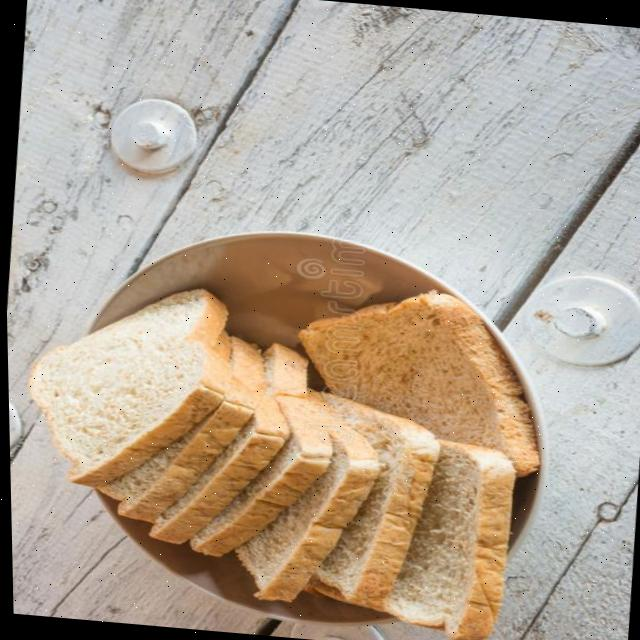Bread: (297, 289, 536, 474), (26, 288, 229, 485), (312, 393, 437, 607), (233, 417, 378, 600), (381, 439, 512, 640), (148, 395, 287, 542), (96, 398, 249, 519), (217, 395, 330, 543)
